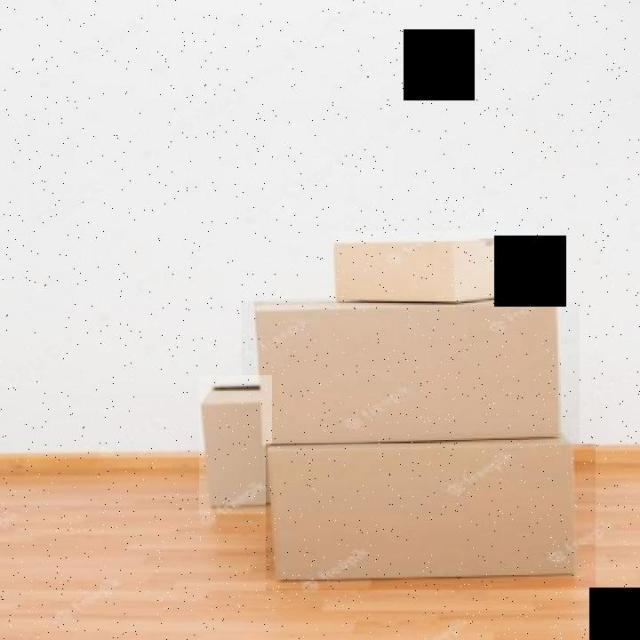box: (266, 444, 596, 592), (242, 302, 580, 444), (334, 231, 540, 308), (199, 376, 272, 514)
